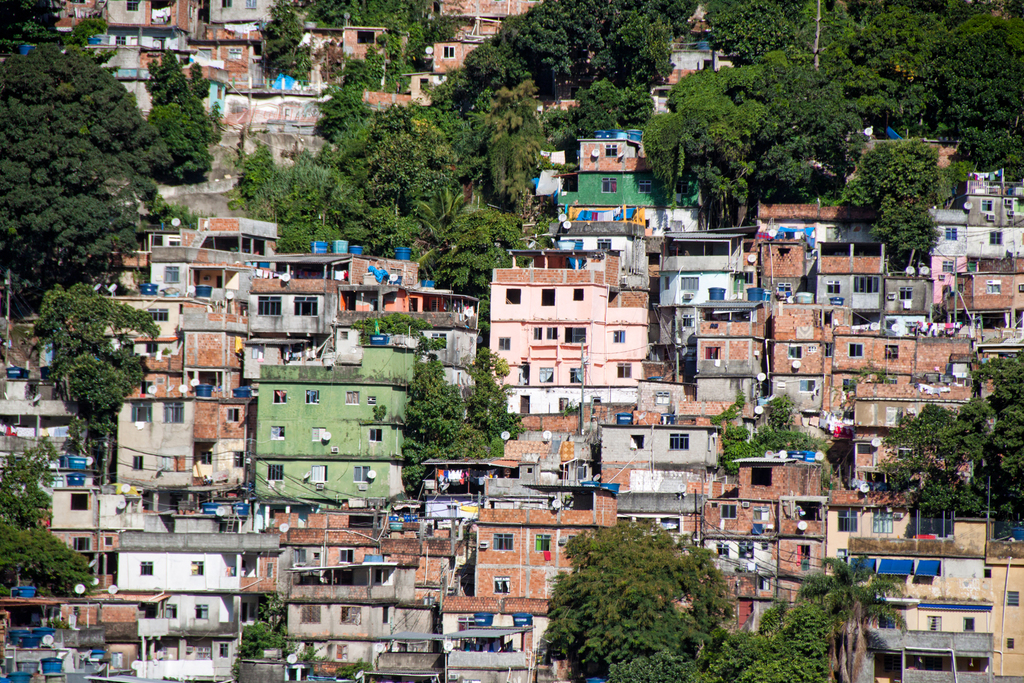Tree: (224, 0, 671, 292), (634, 0, 1023, 279), (0, 0, 218, 288), (537, 519, 890, 682), (873, 358, 1023, 534), (32, 284, 174, 465), (397, 334, 515, 486), (0, 436, 94, 606)
